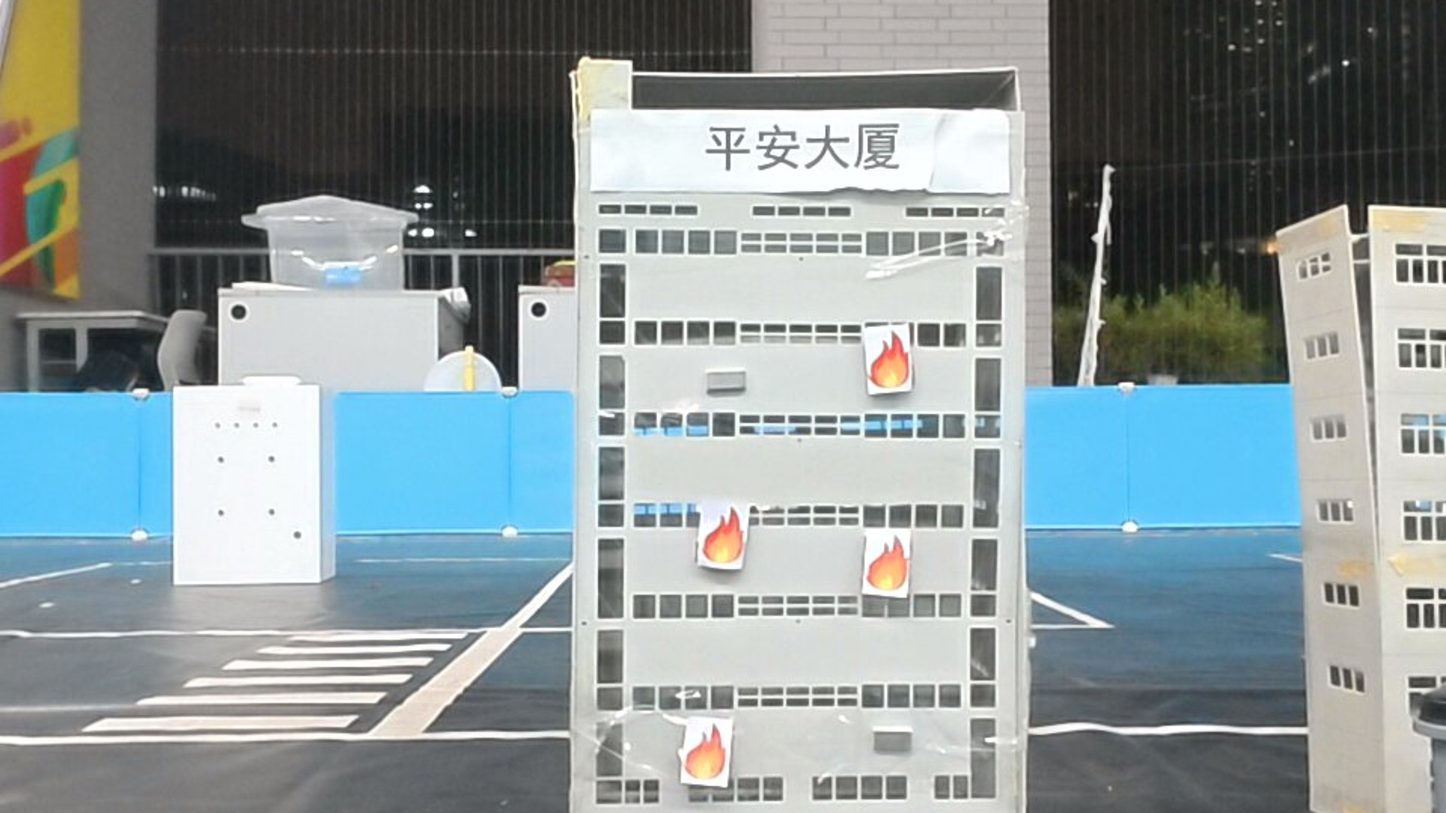fire: (679, 716, 735, 787), (698, 501, 751, 571), (863, 528, 914, 596), (864, 326, 915, 393)
